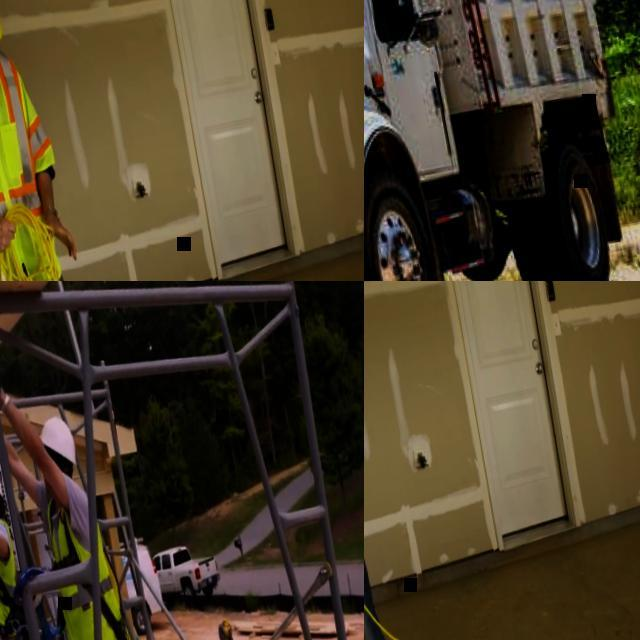helmet: (36, 414, 78, 471)
vest: (42, 485, 136, 640), (0, 37, 66, 247), (0, 516, 27, 637)
